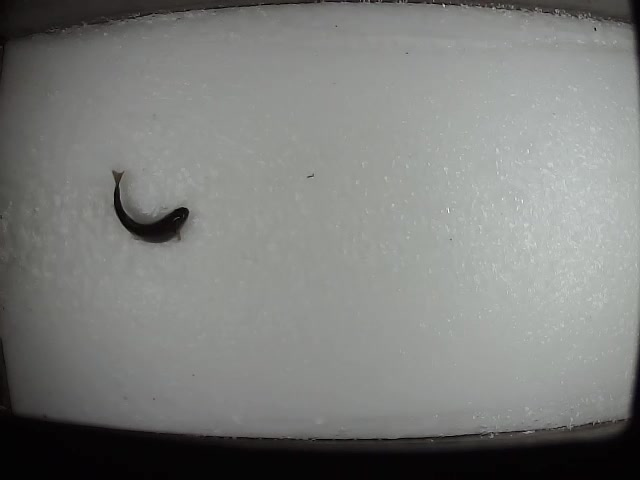fish: (106, 166, 191, 246)
